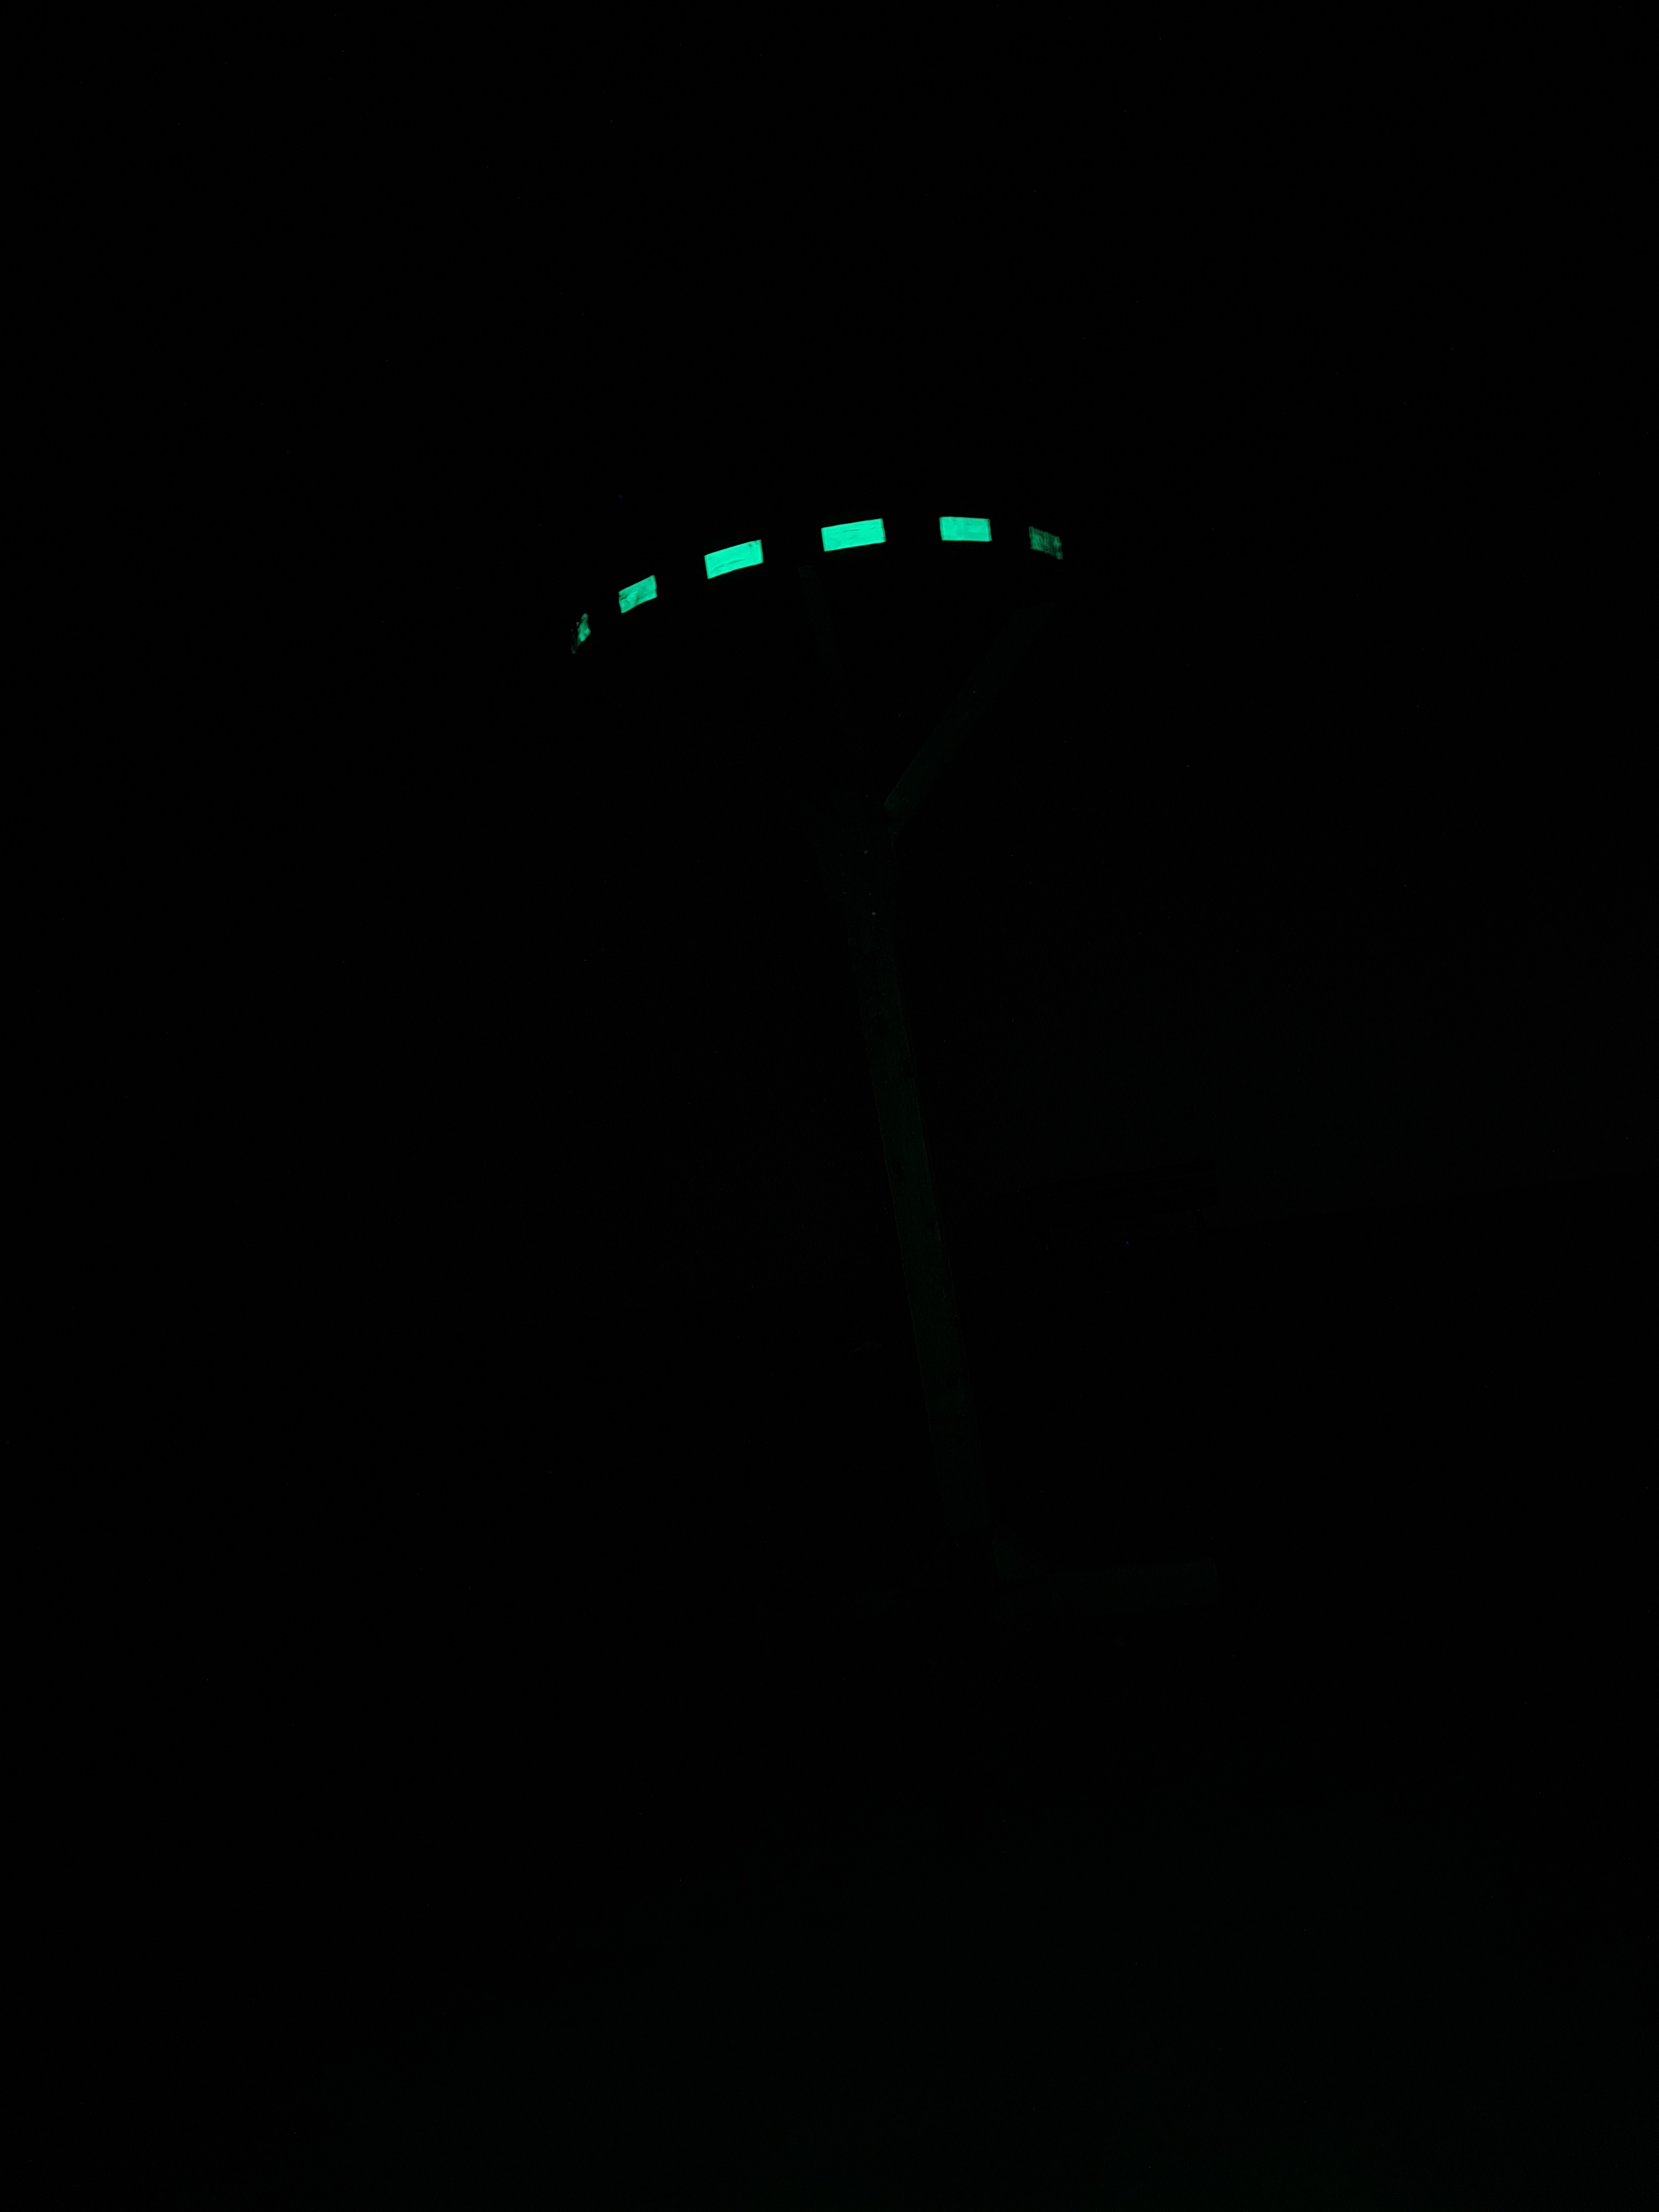hoop: (568, 512, 1065, 657)
